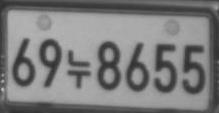5: (181, 44, 206, 94), (153, 43, 177, 94)
6: (11, 37, 37, 87), (125, 41, 149, 92)
8: (96, 40, 121, 91)
9: (37, 37, 63, 88)
누: (65, 49, 93, 90)
